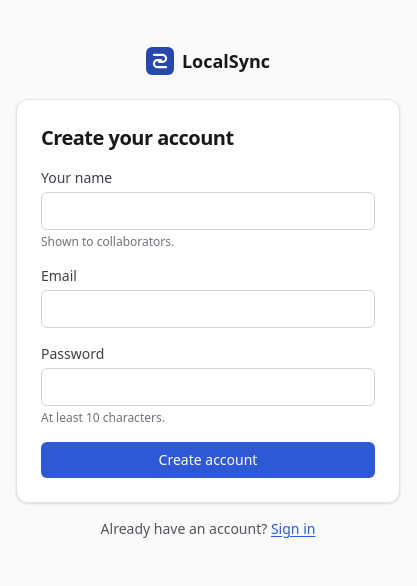
it: register page › shows field errors returned by the server next to the field
The width and height of the screenshot is (417, 586).
Type "Ada" into the field labelled "Your name" at (208, 211), box [41,192,375,230]
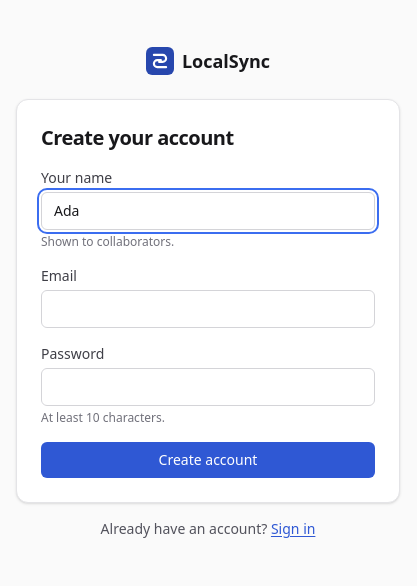
Type "ada@example.com" into the field labelled "Email" at (208, 309), box [41,290,375,328]
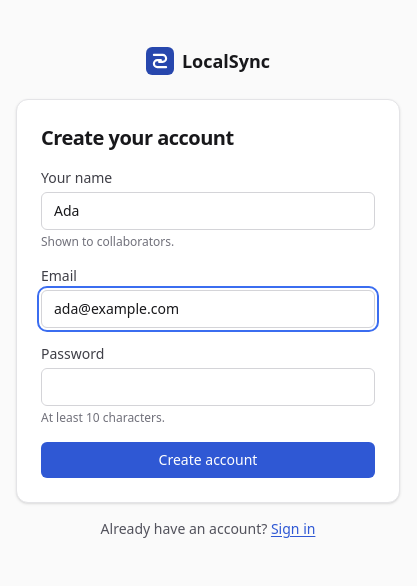
Type "a long enough password" into the password field labelled "Password" at (208, 387), box [41,368,375,406]
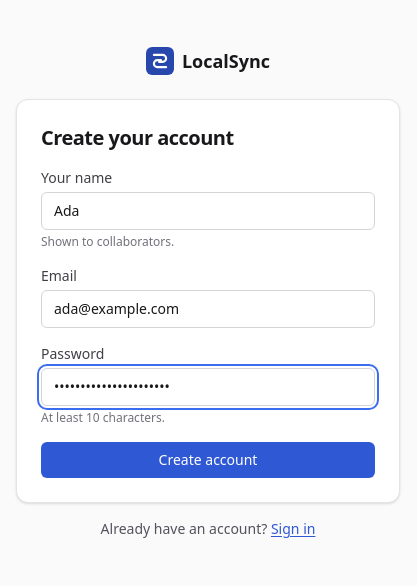
Click the button "Create account" at (208, 460), box [41,442,375,478]
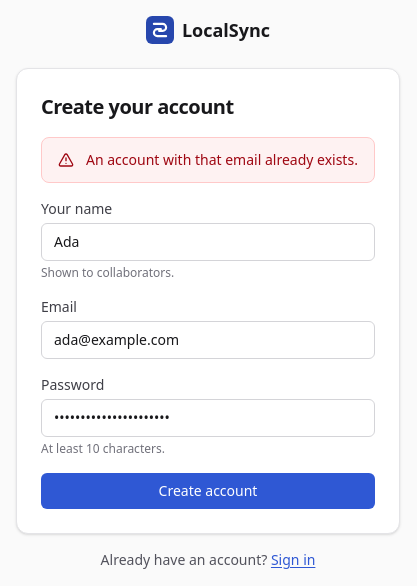
Now the message shows "already exists", box [86,150,358,169]
